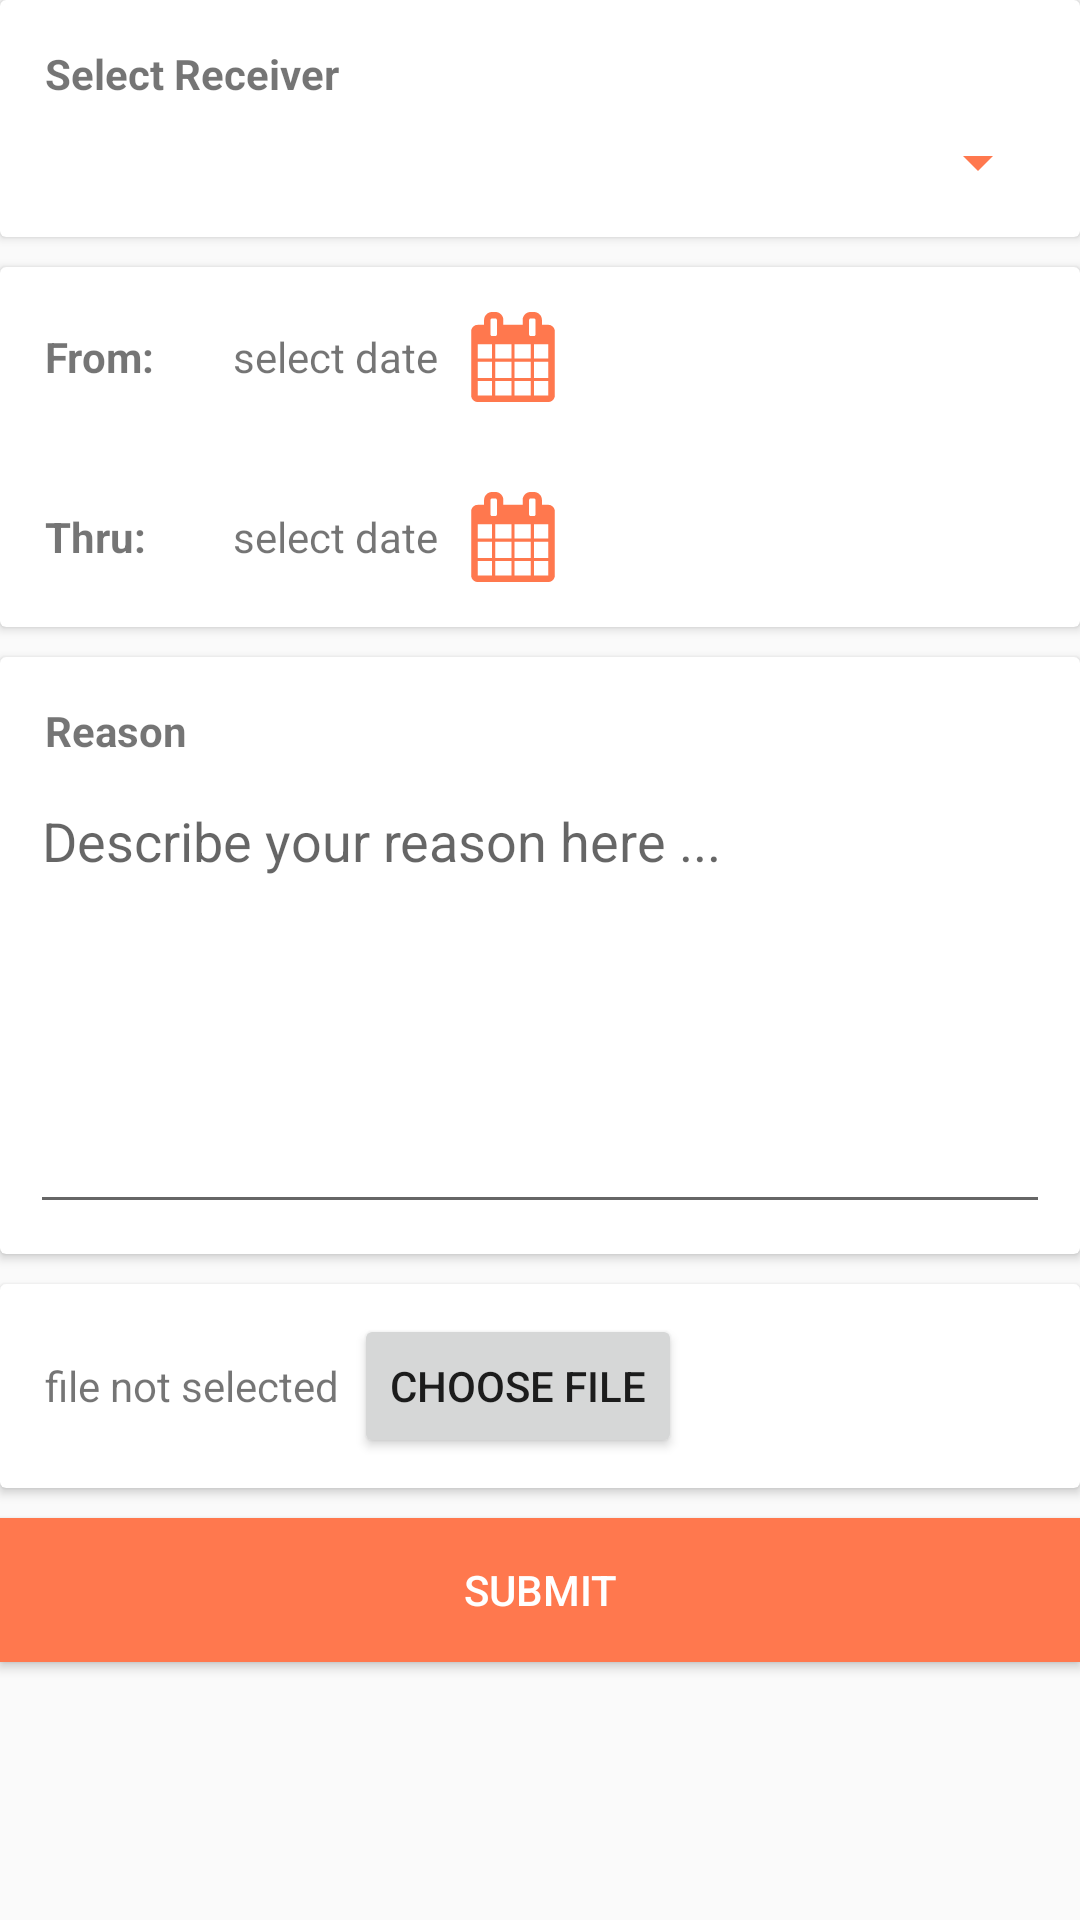

Icon click points for this 1080x1920 phone screenshot, format [x,y]:
calendar: [513,357], [513,537]
